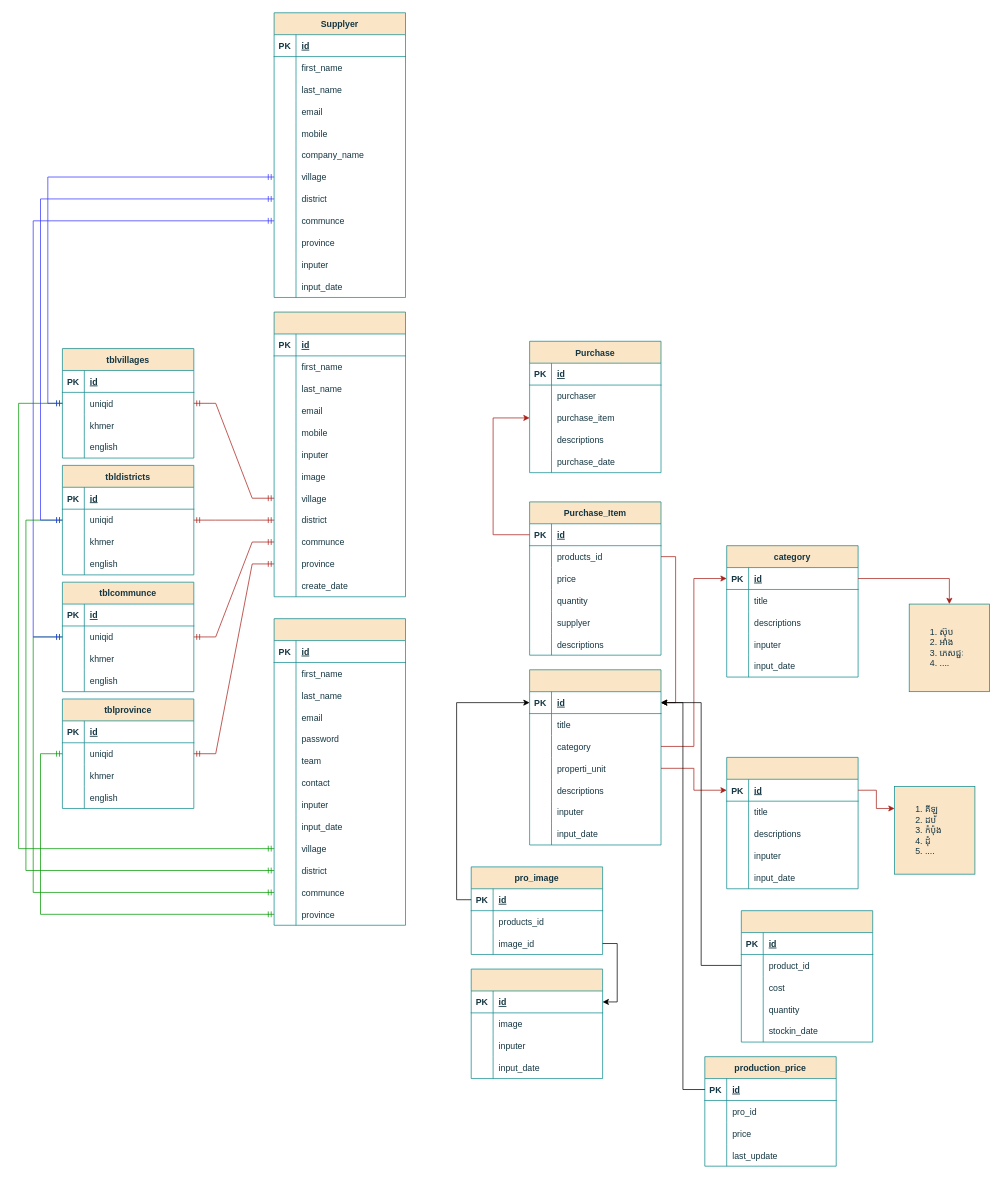
Some shapes in this 1002 by 1179 pixel diagram are drawn without their labels. The shapes that lost their labels are listed below. From the top down, each one's box as (x1, y1, x2, y2) in pixels, then its label:
(273, 311, 406, 597): tblcustomer
(273, 618, 406, 925): User
(529, 669, 661, 845): Products
(726, 757, 858, 889): property_unit
(741, 910, 873, 1042): Inventory_transaction
(470, 968, 603, 1079): Product_images
